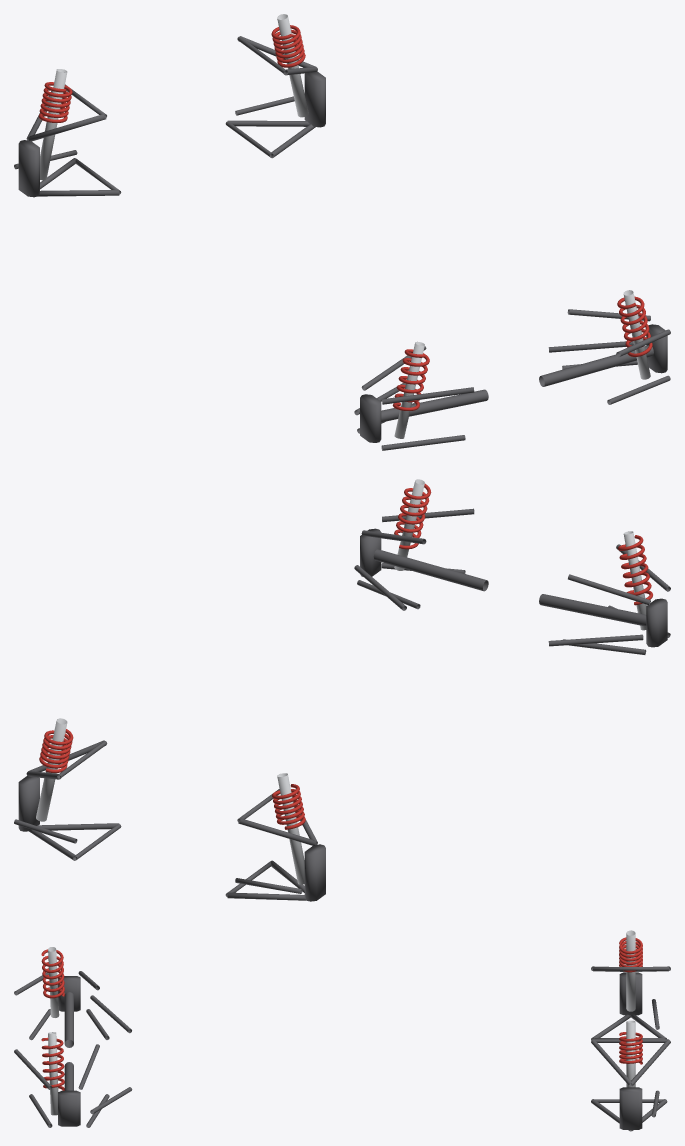
The model's file is running_gear.fbx.
3 views of the same model, one above another, from view 1: azimuth 30°, elevation 25°; view 2: azimuth 150°, elevation 25°; view 3: azimuth 270°, elevation 25° (orthographic). The views are drawn at different scales.
Parts seen in each view (by area): view 1: CH_Susp_Front_Arms_R, CH_Knuckles_L, CH_Susp_Front_Arms_L, CH_Knuckles_R, CH_Susp_Rear_Links_R, CH_Susp_Rear_Links_L, CH_HalfShaft_R, CH_HalfShaft_L, CH_Susp_Front_Spring_R, CH_Susp_Rear_Spring_R, CH_Susp_Front_Spring_L, CH_Susp_Rear_Spring_L (+4 smaller); view 2: CH_Susp_Front_Arms_L, CH_Susp_Front_Arms_R, CH_Knuckles_L, CH_Knuckles_R, CH_Susp_Rear_Links_L, CH_Susp_Rear_Links_R, CH_HalfShaft_R, CH_HalfShaft_L, CH_Susp_Rear_Spring_R, CH_Susp_Front_Spring_R, CH_Susp_Front_Spring_L, CH_Susp_Rear_Spring_L (+4 smaller); view 3: CH_Knuckles_R, CH_Susp_Front_Arms_R, CH_Knuckles_L, CH_Susp_Rear_Links_R, CH_Susp_Front_Arms_L, CH_Susp_Rear_Links_L, CH_Susp_Rear_Spring_L, CH_Susp_Front_Damper_L, CH_Susp_Front_Spring_R, CH_Susp_Rear_Spring_R, CH_Susp_Front_Spring_L, CH_Susp_Rear_Damper_R (+3 smaller).
Boxes of the visible parts, x1,y1,x2,y2 form: CH_Susp_Front_Arms_R: [225, 36, 317, 158]; CH_Knuckles_L: [18, 140, 381, 442]; CH_Susp_Front_Arms_L: [14, 84, 121, 196]; CH_Knuckles_R: [304, 71, 667, 373]; CH_Susp_Rear_Links_R: [548, 309, 670, 404]; CH_Susp_Rear_Links_L: [354, 346, 474, 450]; CH_HalfShaft_R: [539, 345, 653, 386]; CH_HalfShaft_L: [381, 389, 488, 422]; CH_Susp_Front_Spring_R: [271, 25, 305, 67]; CH_Susp_Rear_Spring_R: [617, 296, 652, 356]; CH_Susp_Front_Spring_L: [38, 82, 72, 122]; CH_Susp_Rear_Spring_L: [392, 349, 429, 410]; CH_Susp_Front_Arms_L: [225, 789, 317, 900]; CH_Susp_Front_Arms_R: [14, 740, 121, 860]; CH_Knuckles_L: [304, 598, 667, 901]; CH_Knuckles_R: [18, 528, 381, 831]; CH_Susp_Rear_Links_L: [548, 544, 670, 654]; CH_Susp_Rear_Links_R: [354, 508, 474, 610]; CH_HalfShaft_R: [373, 549, 488, 591]; CH_HalfShaft_L: [539, 594, 646, 626]; CH_Susp_Rear_Spring_R: [394, 483, 431, 549]; CH_Susp_Front_Spring_R: [39, 729, 73, 772]; CH_Susp_Front_Spring_L: [272, 784, 305, 829]; CH_Susp_Rear_Spring_L: [618, 535, 652, 605]; CH_Knuckles_R: [58, 1087, 642, 1129]; CH_Susp_Front_Arms_R: [591, 1039, 670, 1131]; CH_Knuckles_L: [58, 972, 642, 1015]; CH_Susp_Rear_Links_R: [14, 1044, 132, 1127]; CH_Susp_Front_Arms_L: [591, 966, 670, 1040]; CH_Susp_Rear_Links_L: [14, 971, 131, 1040]; CH_Susp_Rear_Spring_L: [41, 949, 64, 998]; CH_Susp_Front_Damper_L: [626, 930, 635, 1011]; CH_Susp_Front_Spring_R: [619, 1032, 642, 1064]; CH_Susp_Rear_Spring_R: [41, 1037, 64, 1090]; CH_Susp_Front_Spring_L: [619, 937, 642, 972]; CH_Susp_Rear_Damper_R: [48, 1032, 58, 1115].
Bounding box in the file's own units: 1.49 × 0.5649 × 3.45.
